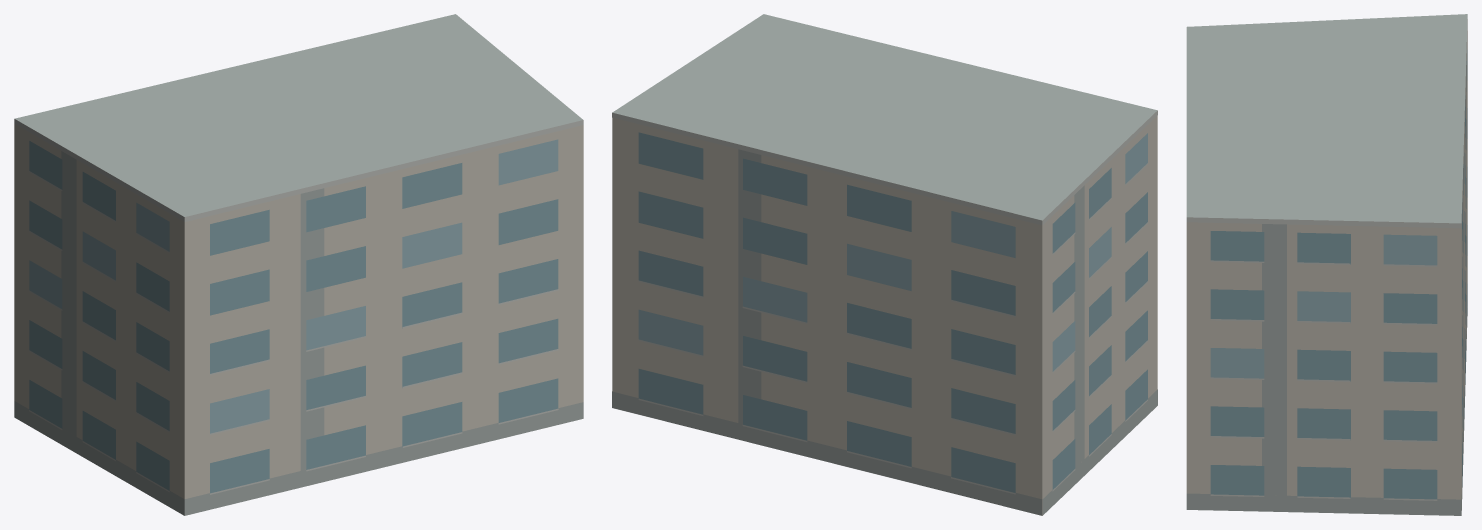
File: survey-upis-32641205.glb
3 views of the same model, side by side, from view 1: azimuth 30°, elevation 25°; view 2: azimuth 150°, elevation 25°; view 3: azimuth 270°, elevation 25° (orthographic). The views are drawn at different scales.
Parts seen in each view (by area): view 1: survey-upis-32641205.tmp; view 2: survey-upis-32641205.tmp; view 3: survey-upis-32641205.tmp.
Part boxes in pixels (x1,y1,x2,y2): survey-upis-32641205.tmp: (14, 14, 583, 515); survey-upis-32641205.tmp: (612, 14, 1157, 515); survey-upis-32641205.tmp: (1186, 14, 1467, 515).
Bounding box in the file's own units: 22.27 × 14.5 × 12.65.
